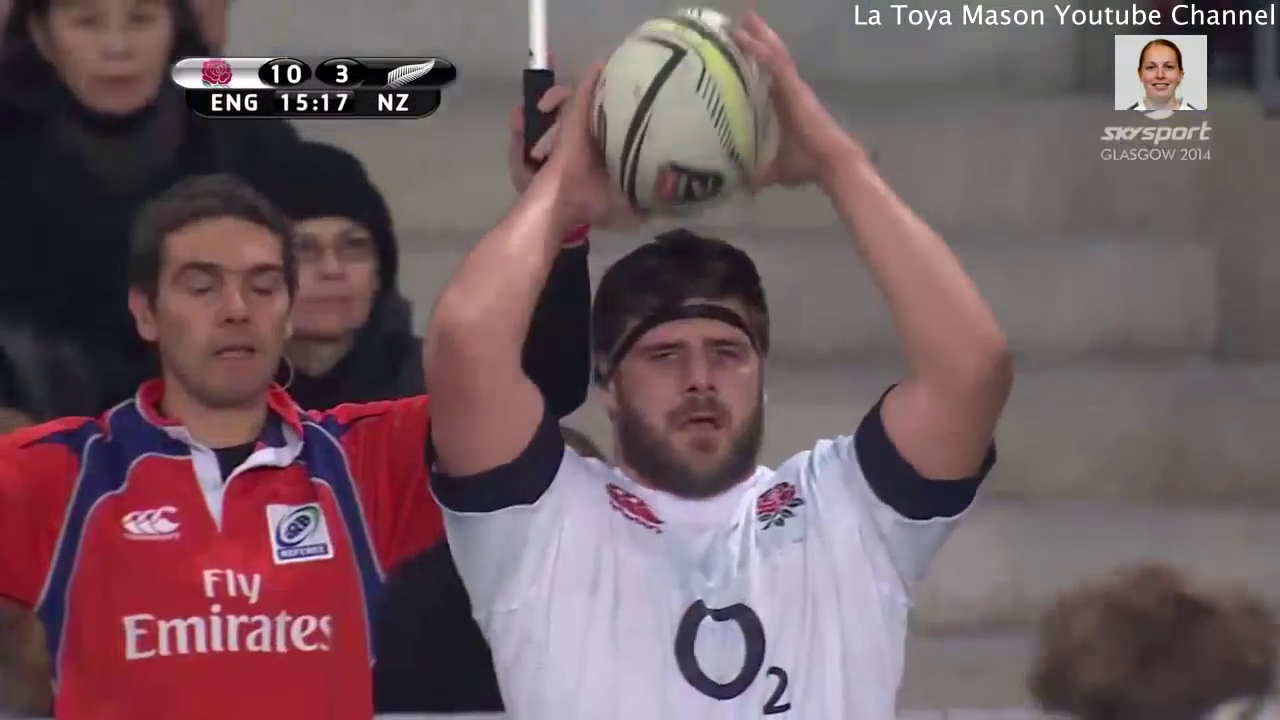ball: (577, 1, 780, 240)
player: (423, 56, 1026, 720), (4, 172, 424, 720)
